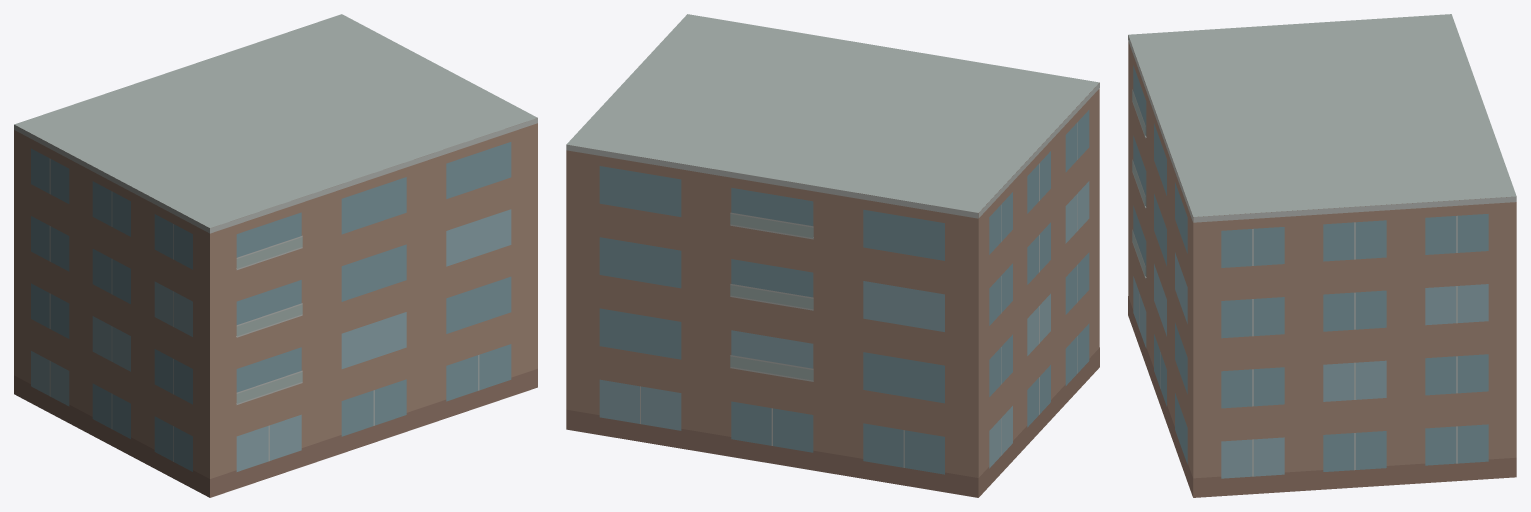
The model's file is residential-ed2d144b-7804-4559-8537-2f0002f543d3.glb.
3 views of the same model, side by side, from view 1: azimuth 30°, elevation 25°; view 2: azimuth 150°, elevation 25°; view 3: azimuth 270°, elevation 25° (orthographic). The views are drawn at different scales.
Parts seen in each view (by area): view 1: residential-ed2d144b-7804-4559-8537-2f0002f543d3.tmp; view 2: residential-ed2d144b-7804-4559-8537-2f0002f543d3.tmp; view 3: residential-ed2d144b-7804-4559-8537-2f0002f543d3.tmp.
Boxes of the visible parts, <box> form: residential-ed2d144b-7804-4559-8537-2f0002f543d3.tmp: <box>14,14,537,497</box>; residential-ed2d144b-7804-4559-8537-2f0002f543d3.tmp: <box>566,14,1099,497</box>; residential-ed2d144b-7804-4559-8537-2f0002f543d3.tmp: <box>1128,14,1516,497</box>.
Bounding box in the file's own units: 18.93 × 12.2 × 15.31.
